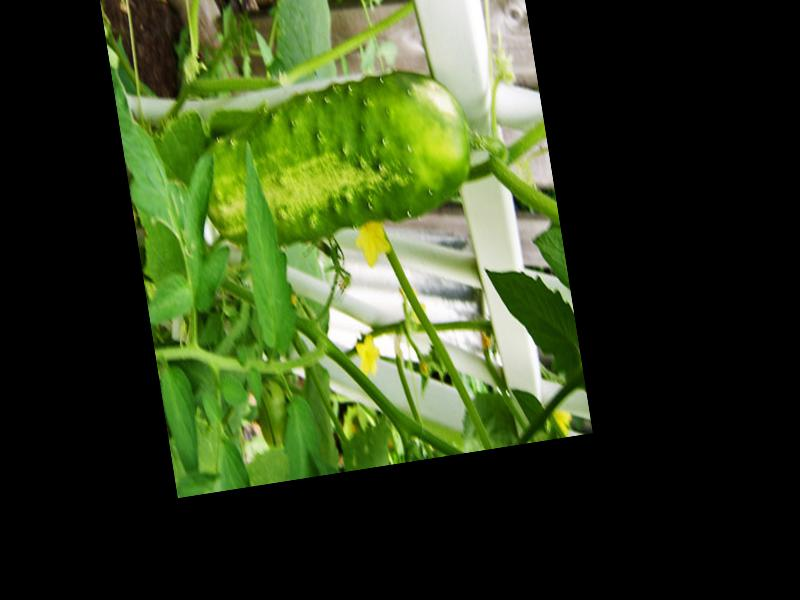Cucumber: (193, 63, 481, 249)
